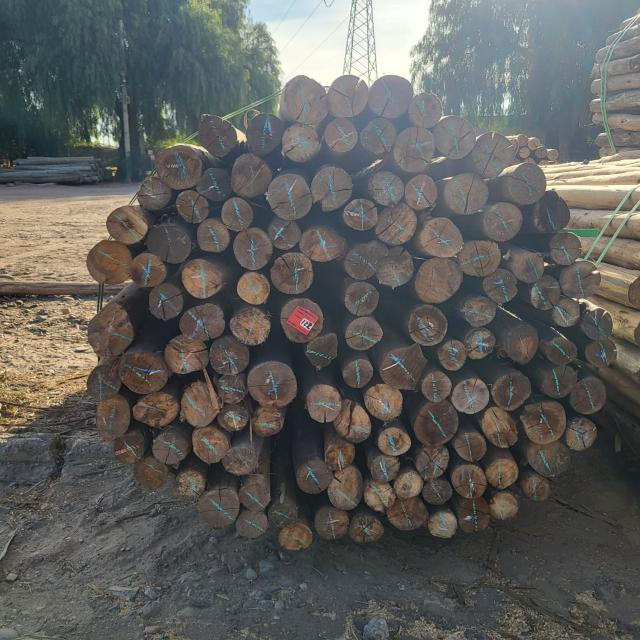package: (85, 75, 609, 548)
